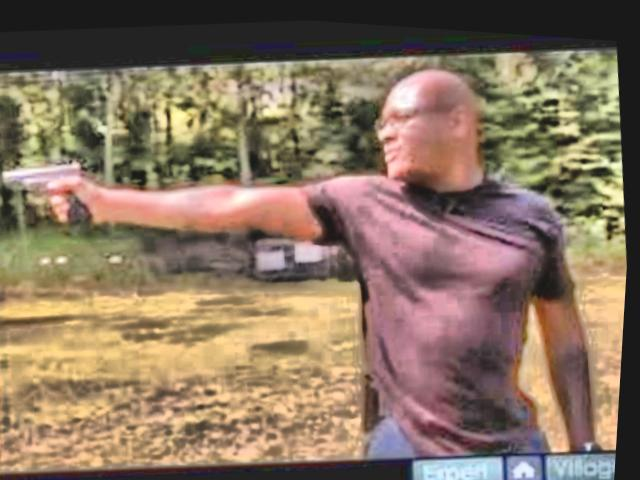pistol: (0, 151, 102, 239)
